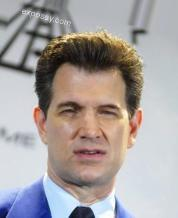face: (57, 97, 124, 165)
